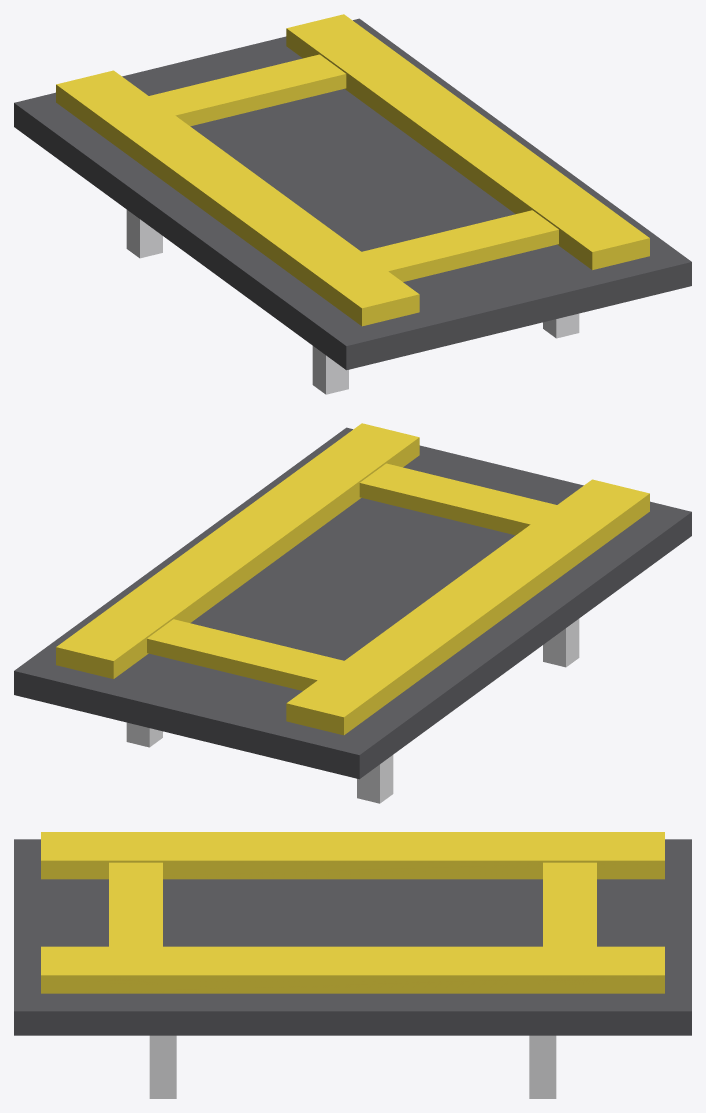
File: lift.glb
3 views of the same model, one above another, from view 1: azimuth 30°, elevation 25°; view 2: azimuth 150°, elevation 25°; view 3: azimuth 270°, elevation 25° (orthographic).
Parts seen in each view (by area): view 1: Lift_Pit, Platform, Lift_Rams; view 2: Lift_Pit, Platform, Lift_Rams; view 3: Lift_Pit, Platform, Lift_Rams.
Boxes of the visible parts, box(x1,y1,x2,y2) form: Lift_Pit: box(14, 18, 691, 370); Platform: box(56, 14, 649, 326); Lift_Rams: box(126, 210, 579, 394); Lift_Pit: box(14, 427, 691, 779); Platform: box(56, 423, 649, 735); Lift_Rams: box(126, 619, 579, 803); Lift_Pit: box(14, 839, 691, 1035); Platform: box(41, 832, 664, 993); Lift_Rams: box(149, 1035, 556, 1098).
Size of the model in its own units: 3 by 1.08 by 5.
